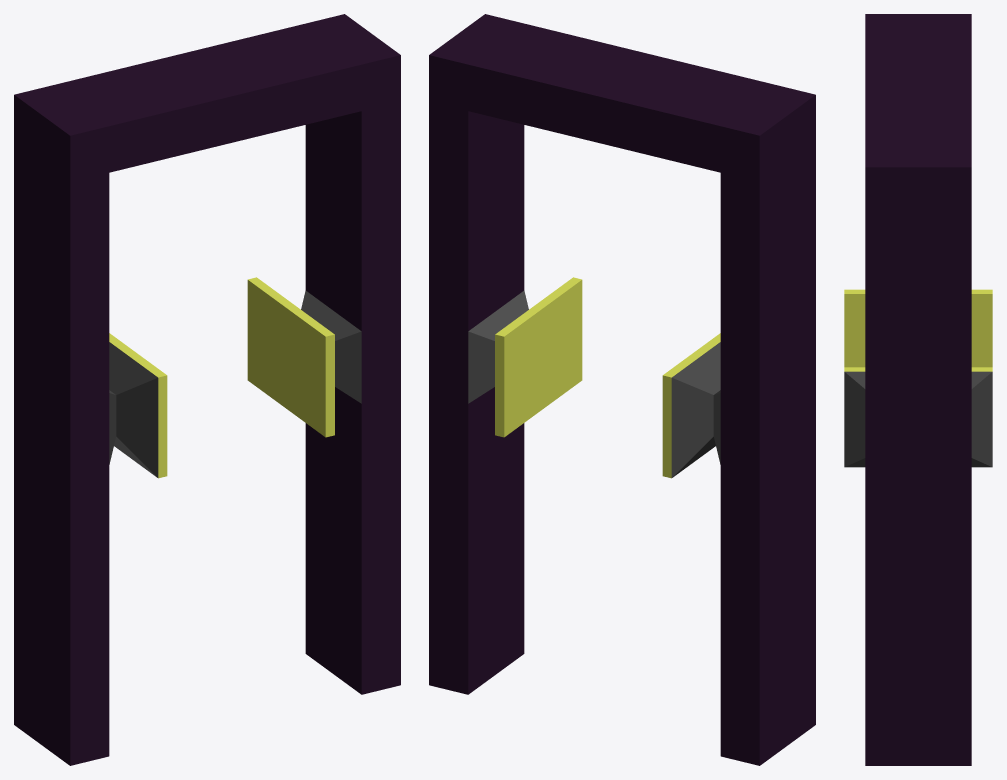
The model's file is MetalDetector.fbx.
3 views of the same model, side by side, from view 1: azimuth 30°, elevation 25°; view 2: azimuth 150°, elevation 25°; view 3: azimuth 270°, elevation 25° (orthographic). The views are drawn at different scales.
Parts seen in each view (by area): view 1: Cube; view 2: Cube; view 3: Cube.
Boxes of the visible parts, x1,y1,x2,y2 form: Cube: (14,14,400,765); Cube: (429,14,815,765); Cube: (844,14,992,765).
Size of the model in its own units: 681 by 1239 by 278.
